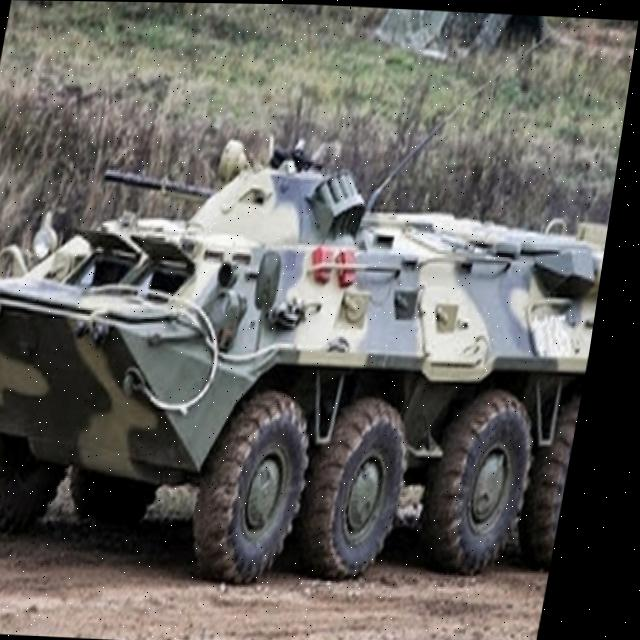MIL_APC: (0, 115, 627, 588)
